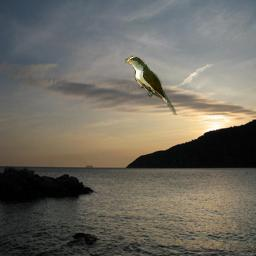Cuckoo: (125, 55, 177, 115)
